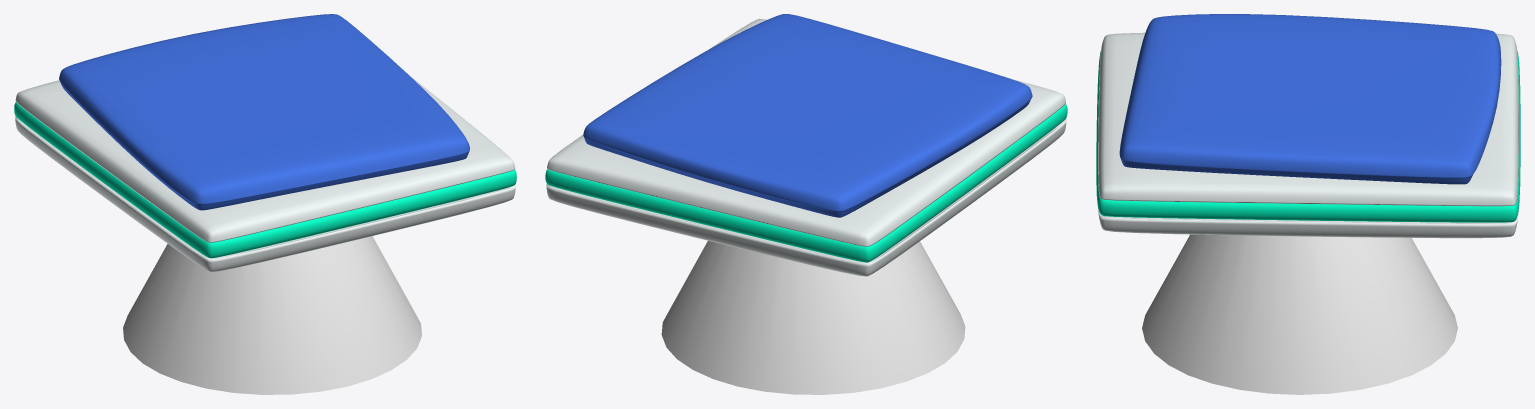
Rendered from Furniture.fbx.
The picture shows the model from 3 angles, left to right: view 1: azimuth 30°, elevation 25°; view 2: azimuth 150°, elevation 25°; view 3: azimuth 270°, elevation 25°; orthographic projection. The views are drawn at different scales.
Visible parts, largest first — view 1: Cushion, Glass foot, Chair, Light; view 2: Cushion, Glass foot, Chair, Light; view 3: Cushion, Glass foot, Chair, Light.
Boxes of the visible parts, x1=… form: Cushion: x1=59, y1=14, x2=469, y2=210; Glass foot: x1=123, y1=236, x2=421, y2=394; Chair: x1=15, y1=75, x2=515, y2=271; Light: x1=14, y1=102, x2=516, y2=258; Cushion: x1=583, y1=14, x2=1032, y2=217; Glass foot: x1=661, y1=241, x2=965, y2=394; Chair: x1=546, y1=18, x2=1066, y2=276; Light: x1=545, y1=104, x2=1067, y2=262; Cushion: x1=1119, y1=14, x2=1501, y2=184; Glass foot: x1=1142, y1=234, x2=1457, y2=394; Chair: x1=1098, y1=32, x2=1518, y2=238; Light: x1=1096, y1=51, x2=1520, y2=222.
Bounding box in the file's own units: 0.7562 × 0.5144 × 0.8129.
